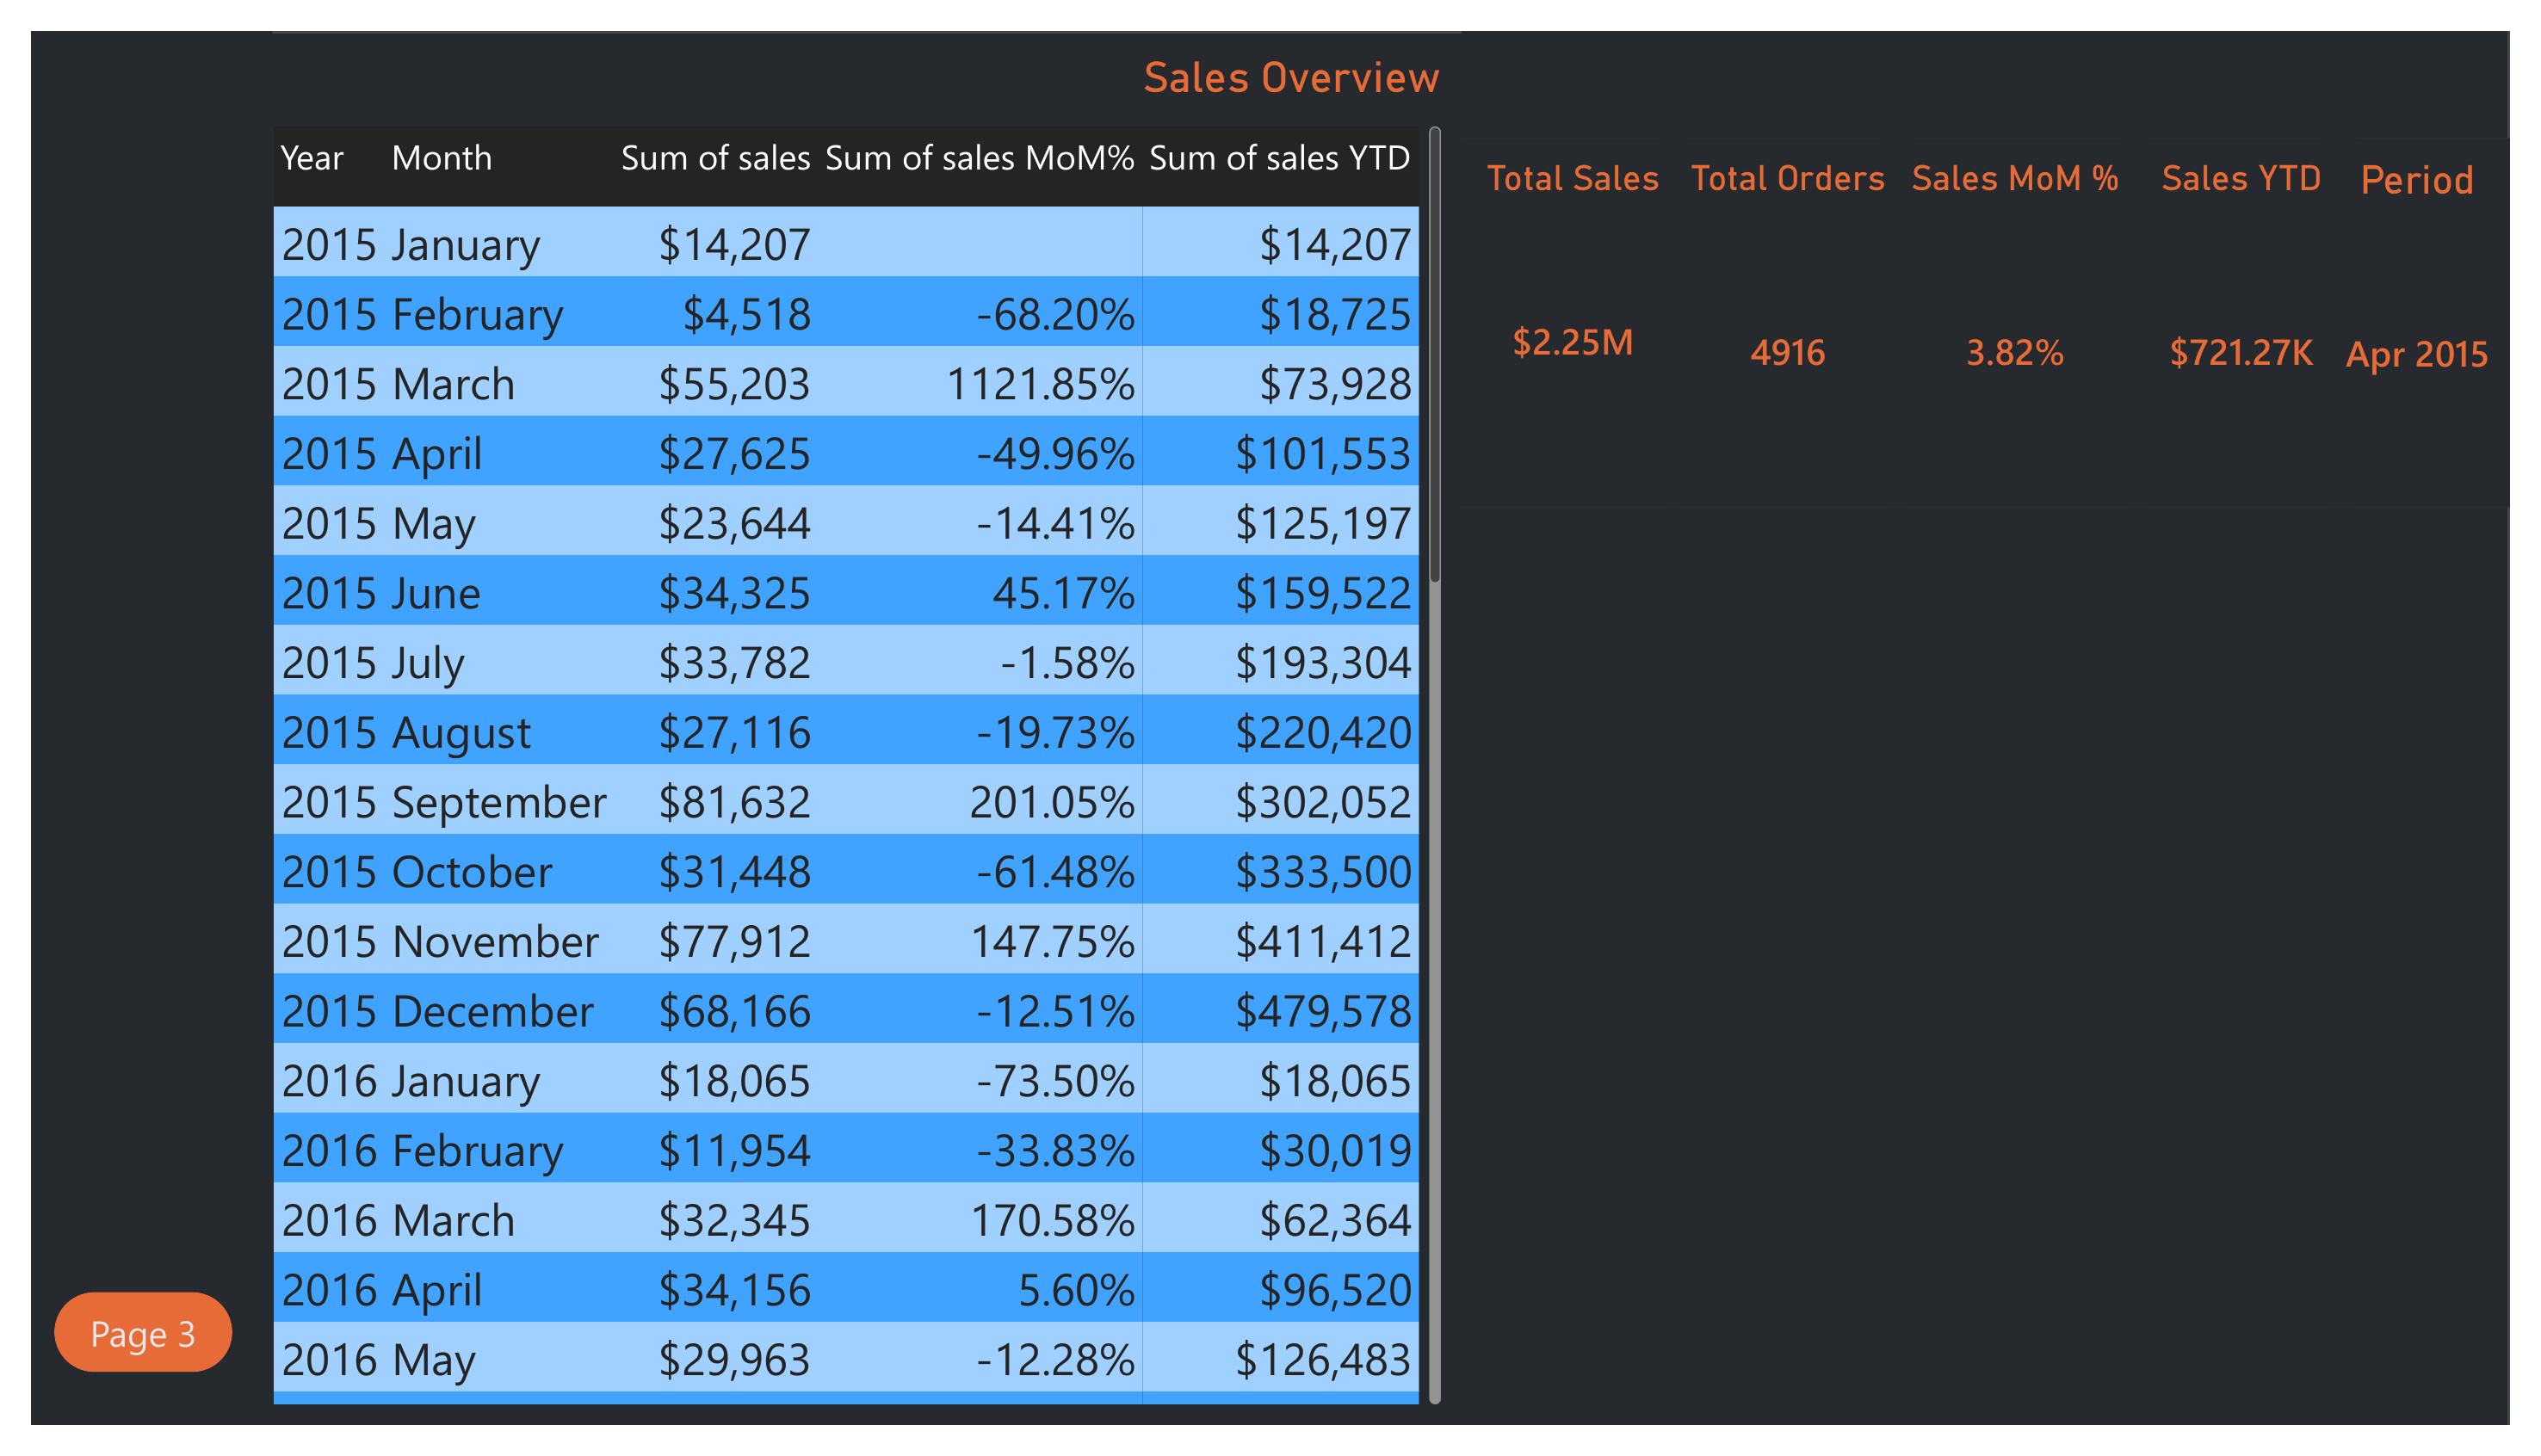

What the dashboard file says about the page in this screenshot:
{"tool":"powerbi","page":{"name":"Sales Overview","canvas":[1920,1080],"ordinal":2},"visuals":[{"type":"tableEx","title":"Sales Overview","fields":{"Values":["Sheet1.order_date.Variation.Date Hierarchy.Year","Sheet1.order_date.Variation.Date Hierarchy.Month","Sum(Sheet1.sales)","Sheet1.Sum of sales MoM%","Sheet1.Sum of sales YTD"]},"box":[170.5,2.4,937.9,1077.6],"z":0},{"type":"card","title":"Total Sales","fields":{"Values":["Sum(Sheet1.sales)"]},"box":[1108.4,82.9,172.9,286.6],"z":1000},{"type":"card","title":"Sales YTD","fields":{"Values":["Sheet1.Sum of sales YTD"]},"box":[1622.4,82.9,180,286.6],"z":2000},{"type":"card","title":"Sales MoM %","fields":{"Values":["Sheet1.Sum of sales MoM%"]},"box":[1435.3,82.9,203.7,286.6],"z":3000},{"type":"card","title":"Total Orders","fields":{"Values":["Count(Sheet1.order_id)"]},"box":[1264.8,82.9,191.8,286.6],"z":4000},{"type":"shape","box":[0,0,187,1080],"z":5000},{"type":"shape","title":"Page 3","box":[18.2,976.7,138,62],"z":6000},{"type":"shape","box":[1108.4,369.5,810,710.5],"z":7000},{"type":"shape","box":[1108.4,0,810,82.9],"z":8000},{"type":"card","title":"Period","fields":{"Values":["Min(Sheet1.Month_Year)"]},"box":[1776.3,82.9,144.5,286.6],"z":9000}]}

Visuals, with their boxes in screenshot pixels (x1, y1, x2, y2), scaled from the page's 1920x1080 canvas onto the 2541x1456 screenshot:
"Sales Overview" tableEx: x1=226 y1=3 x2=1467 y2=1455
"Total Sales" card: x1=1467 y1=112 x2=1696 y2=498
"Sales YTD" card: x1=2147 y1=112 x2=2385 y2=498
"Sales MoM %" card: x1=1900 y1=112 x2=2169 y2=498
"Total Orders" card: x1=1674 y1=112 x2=1928 y2=498
shape: x1=0 y1=0 x2=248 y2=1455
"Page 3" shape: x1=24 y1=1317 x2=207 y2=1400
shape: x1=1467 y1=498 x2=2539 y2=1455
shape: x1=1467 y1=0 x2=2539 y2=112
"Period" card: x1=2351 y1=112 x2=2540 y2=498
